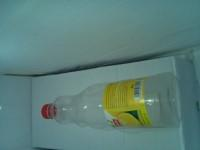bottle: (43, 73, 165, 133)
